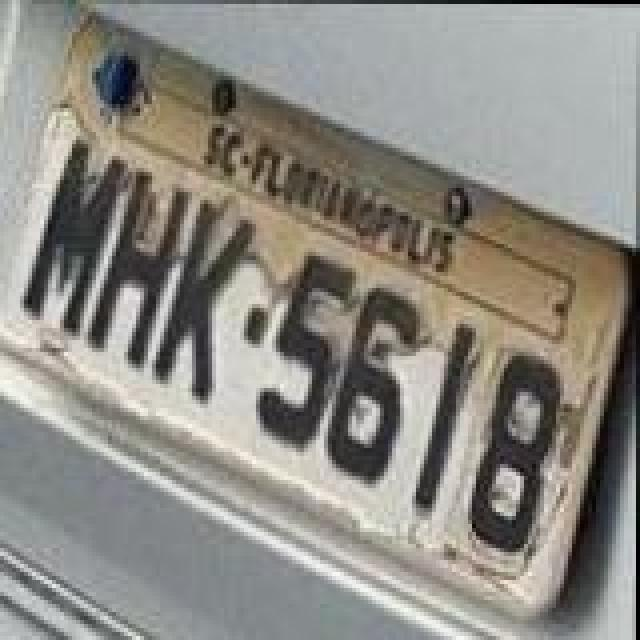1: (414, 322, 478, 514)
5: (260, 248, 360, 444)
6: (326, 284, 422, 480)
8: (470, 352, 566, 552)
H: (84, 162, 192, 366)
K: (154, 196, 258, 400)
M: (20, 140, 128, 340)
